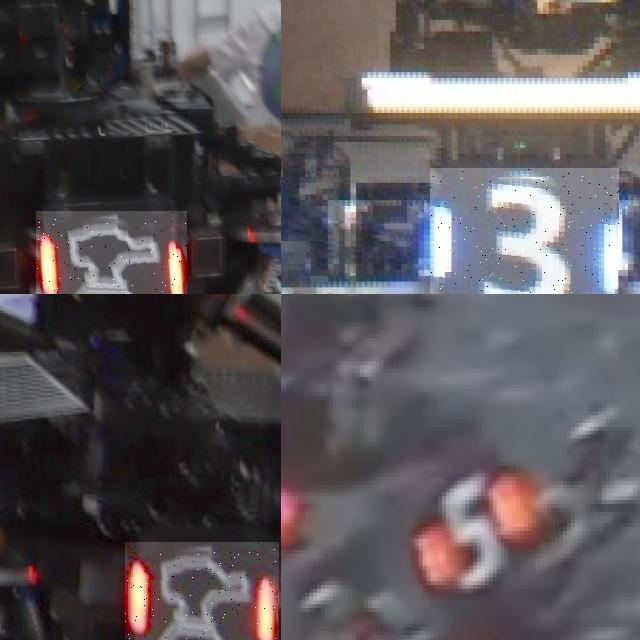B3: (429, 168, 619, 294)
R5: (414, 480, 532, 592)
Rs: (125, 542, 278, 640), (35, 211, 187, 294)
